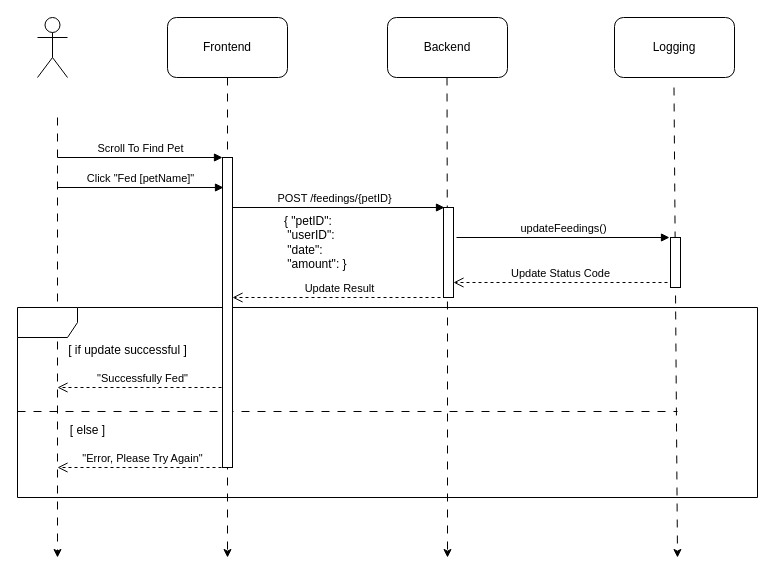
Some shapes in this 775 by 583 pixel diagram are drawn without their labels. The shapes that lost their labels are listed below. From the top down, each one's box as (x1, y1, x2, y2) in pixels, then its label:
(36, 16, 68, 78): Actor
(16, 306, 758, 498): alt
